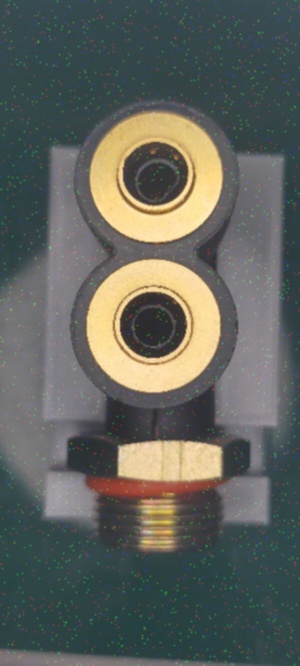craze: (149, 403, 162, 446)
off-centered: (133, 150, 183, 208)
